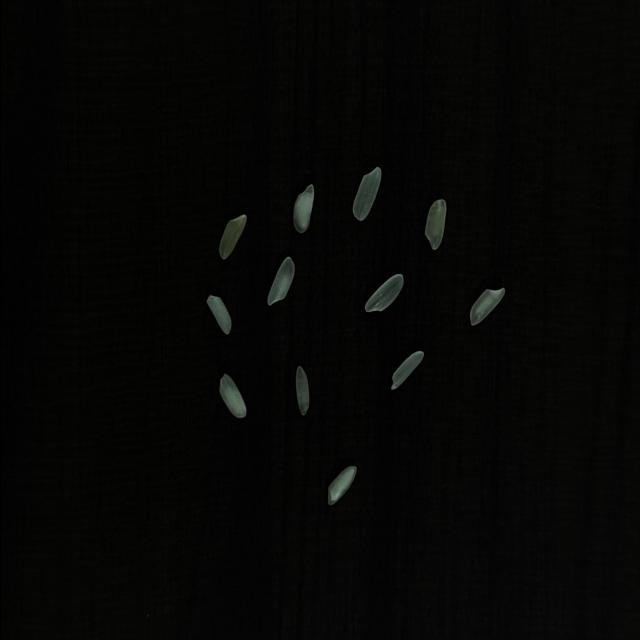Full: (352, 167, 381, 221), (363, 274, 402, 312), (266, 256, 294, 306), (468, 288, 504, 326), (390, 350, 423, 390), (218, 373, 246, 418), (218, 214, 245, 260), (327, 466, 356, 505), (424, 200, 446, 250), (205, 294, 231, 334), (292, 184, 313, 233), (294, 366, 308, 416)
